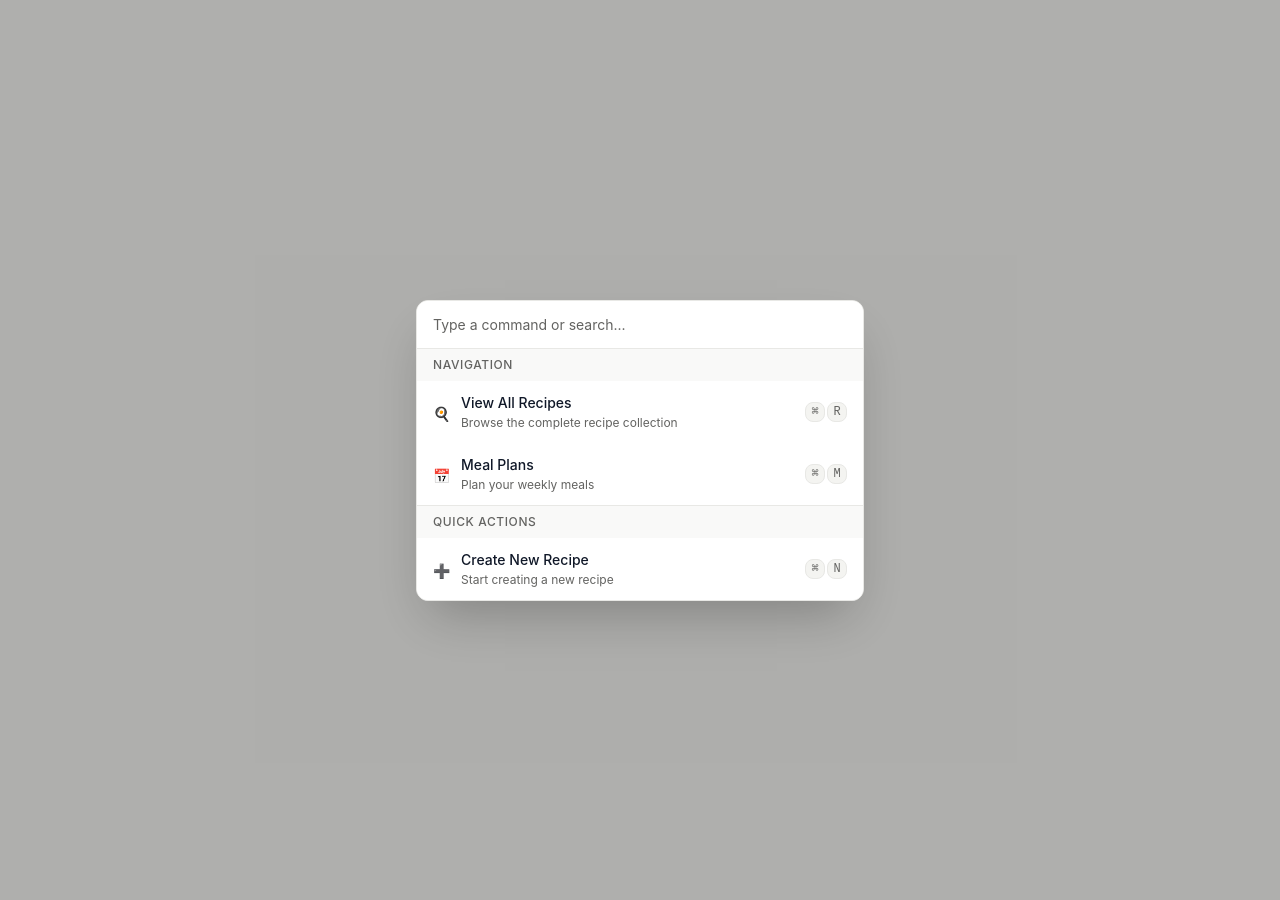
Scenario: CommandPalette › Search Functionality › filters commands based on search input
Type "recipe" into the search field at {"x": 640, "y": 324}, box [417,300,863,348]
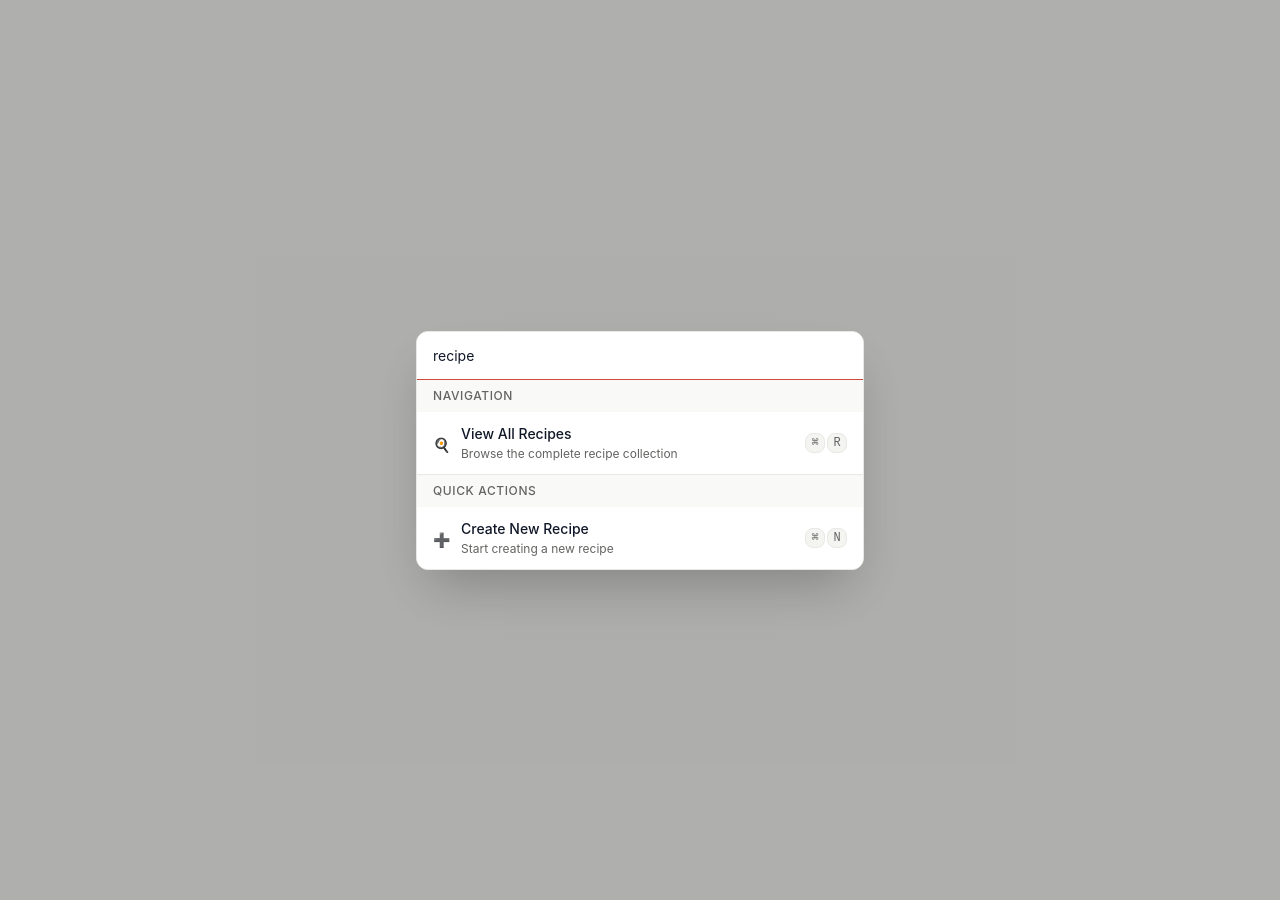
Expected: the text "View All Recipes" is shown, [461,424,572,442]
Expected: the option "Meal Plans" is gone
